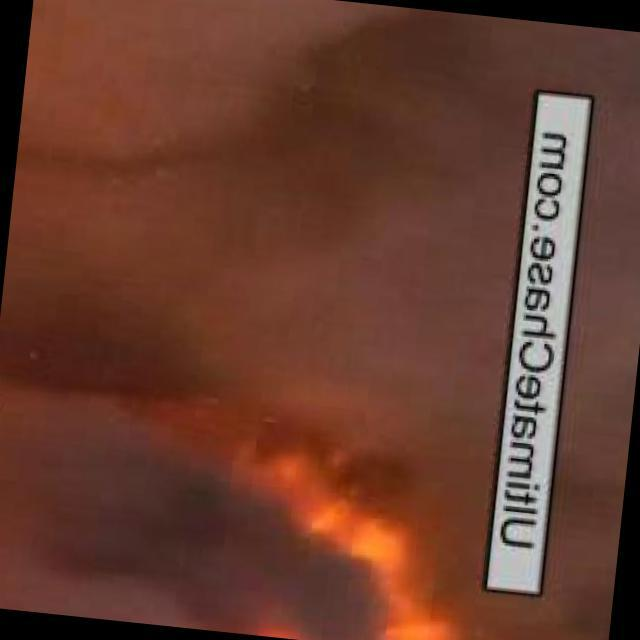Fire: (164, 410, 513, 640)
